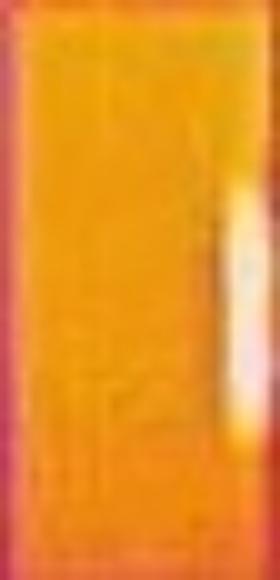Diode: (212, 167, 274, 448)
